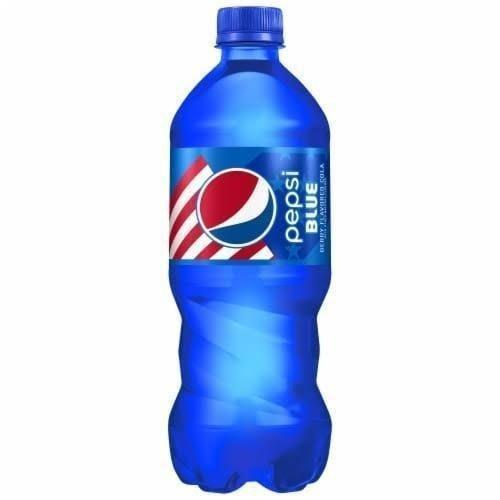bottle-plastic: (163, 1, 336, 499)
